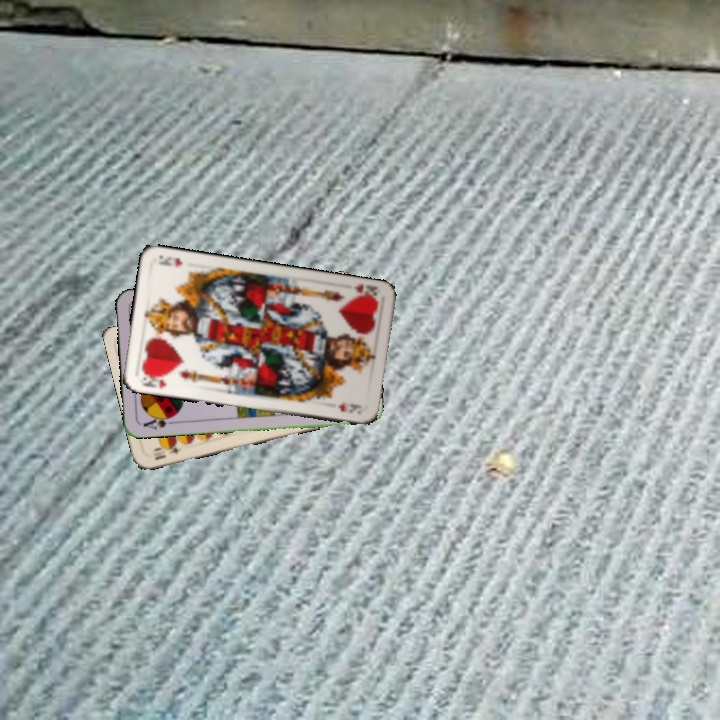E10: (149, 439, 184, 463)
HK: (347, 280, 380, 303), (138, 369, 169, 391)
SA: (139, 411, 178, 432)
